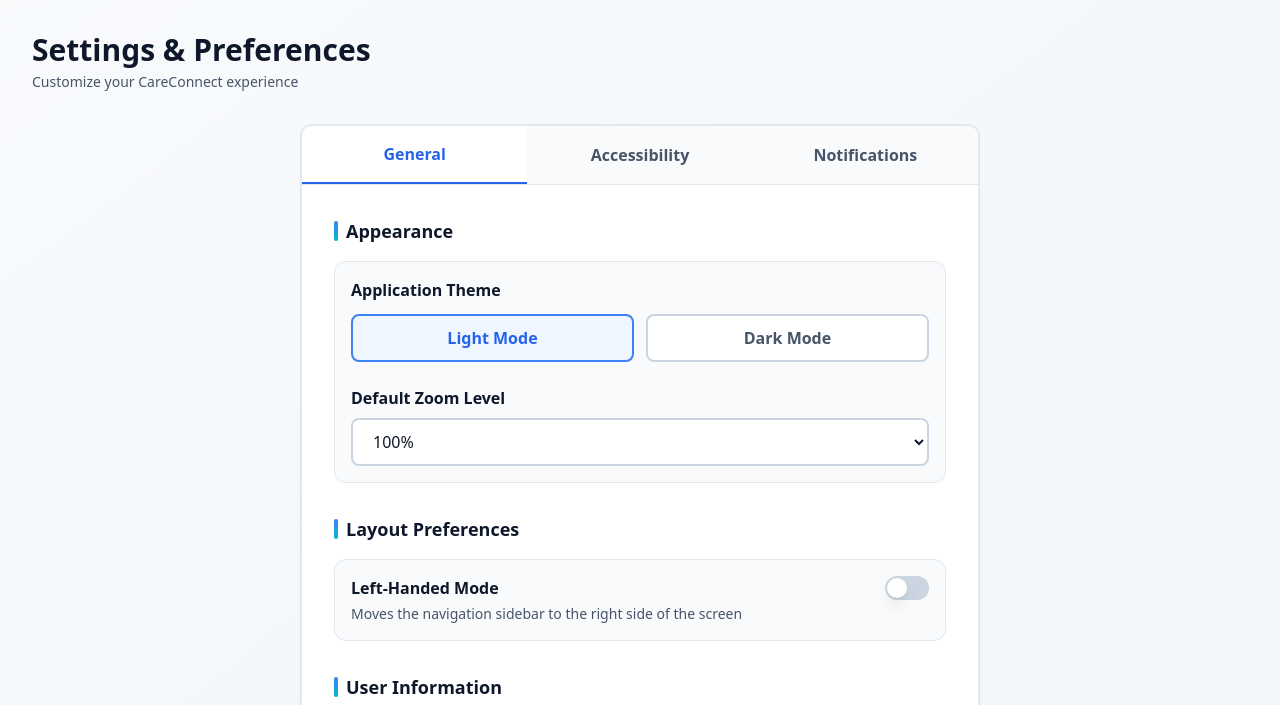
Test case: SettingsPage Component › switches tabs and displays relevant content
// Click Accessibility tab
Click the button "Accessibility" at point(640, 155), box [527, 126, 753, 184]
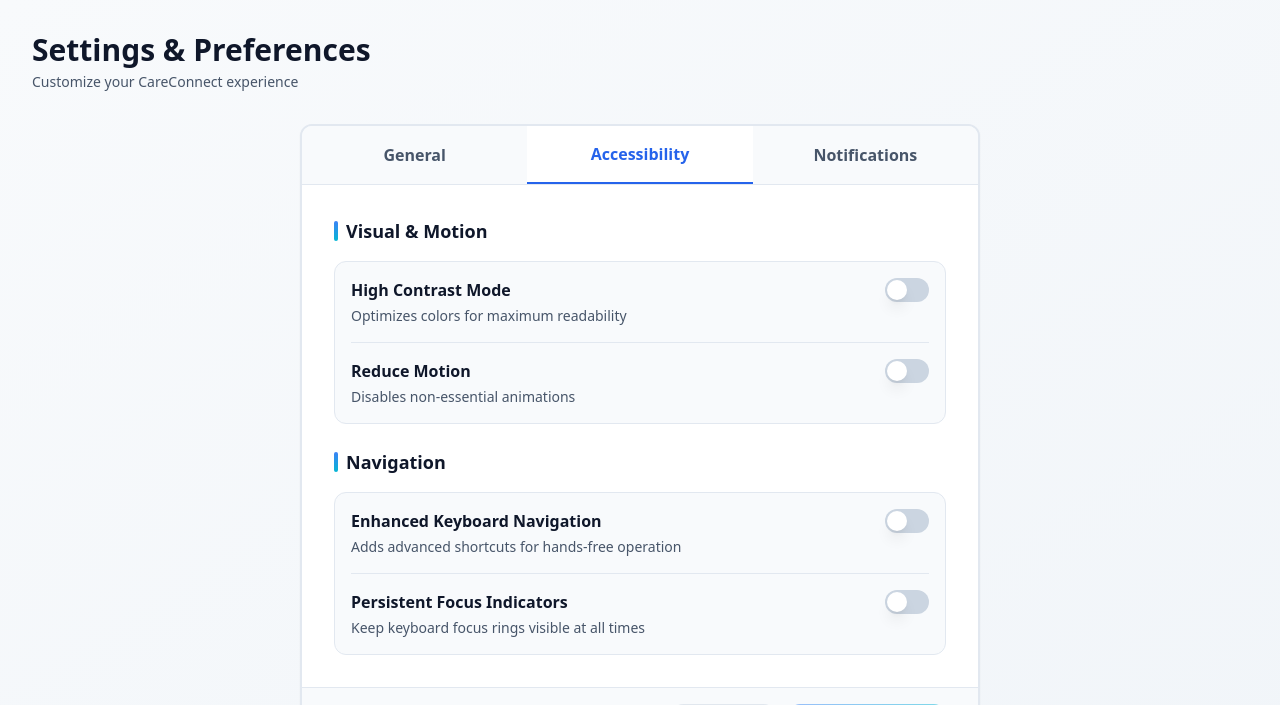
expect the heading "Visual & Motion" is shown: met, box [334, 219, 488, 243]
expect the heading "Appearance" is gone: met
// Click Notifications tab
Click the button "Notifications" at point(865, 155), box [753, 126, 978, 184]
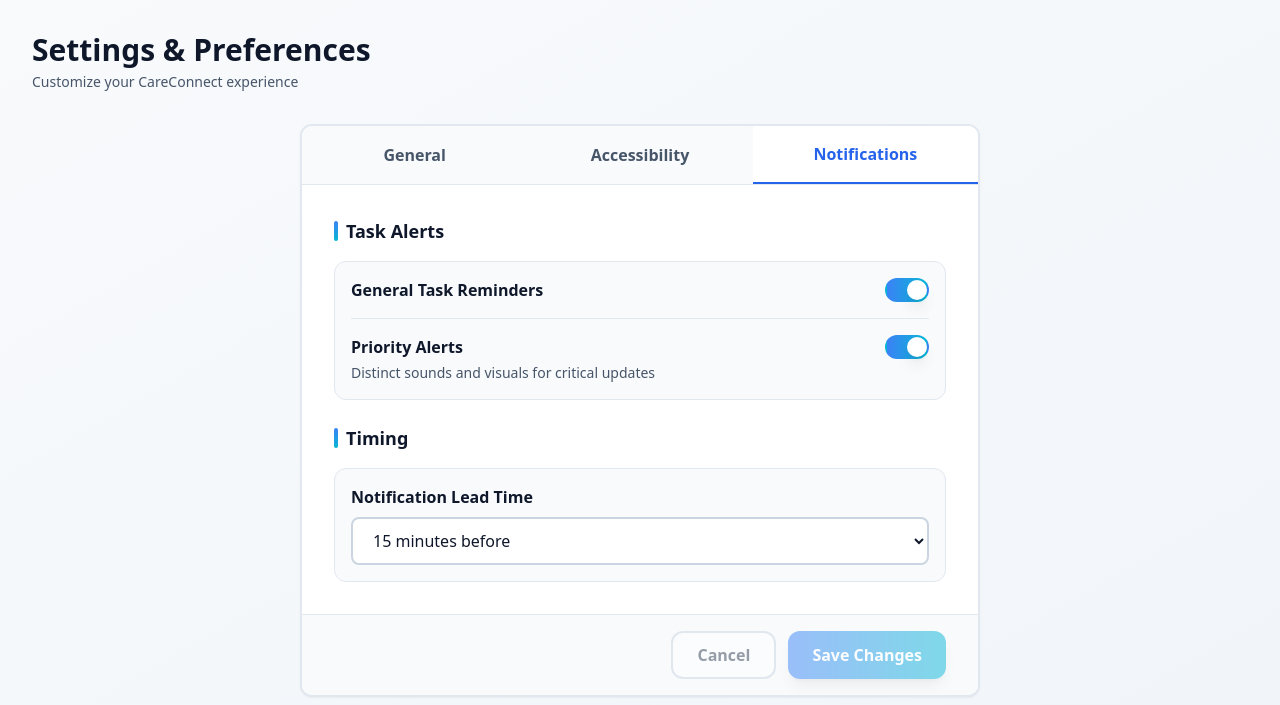
expect the heading "Task Alerts" is shown: met, box [334, 219, 444, 243]
